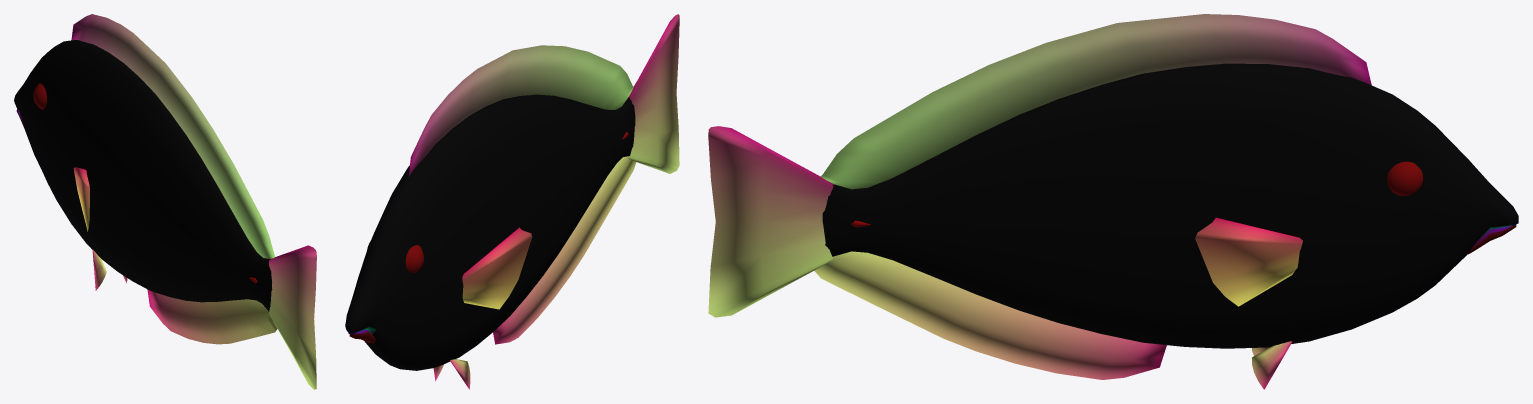
File: surgeonfish_powder_blue_game.glb
The picture shows the model from 3 angles, left to right: view 1: azimuth 30°, elevation 25°; view 2: azimuth 150°, elevation 25°; view 3: azimuth 270°, elevation 25°; orthographic projection. The views are drawn at different scales.
Parts seen in each view (by area): view 1: surgeonfish_powder_blue_game; view 2: surgeonfish_powder_blue_game; view 3: surgeonfish_powder_blue_game.
Part boxes in pixels (x1,y1,x2,y2): surgeonfish_powder_blue_game: (14, 14, 316, 389); surgeonfish_powder_blue_game: (345, 14, 679, 389); surgeonfish_powder_blue_game: (708, 14, 1518, 389).
Size of the model in its own units: 0.0437 by 0.121 by 0.2427.
